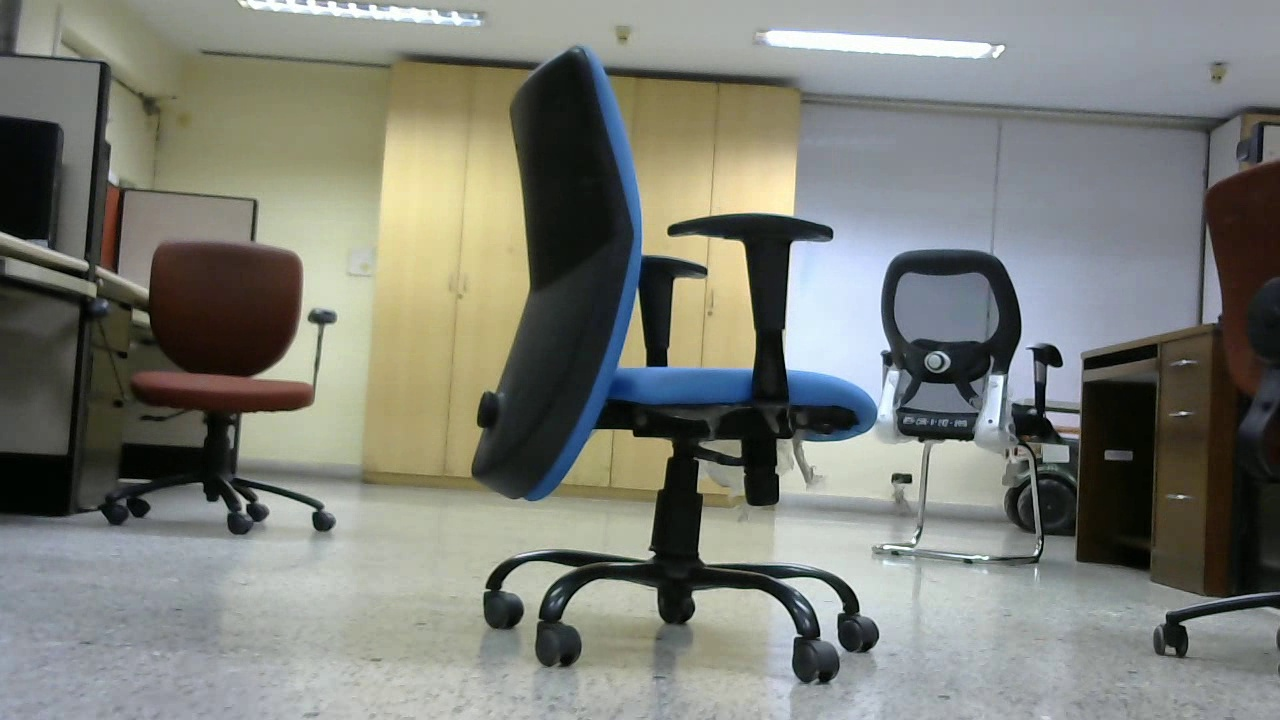chair: (477, 34, 891, 690), (97, 231, 336, 537), (852, 244, 1056, 569)
